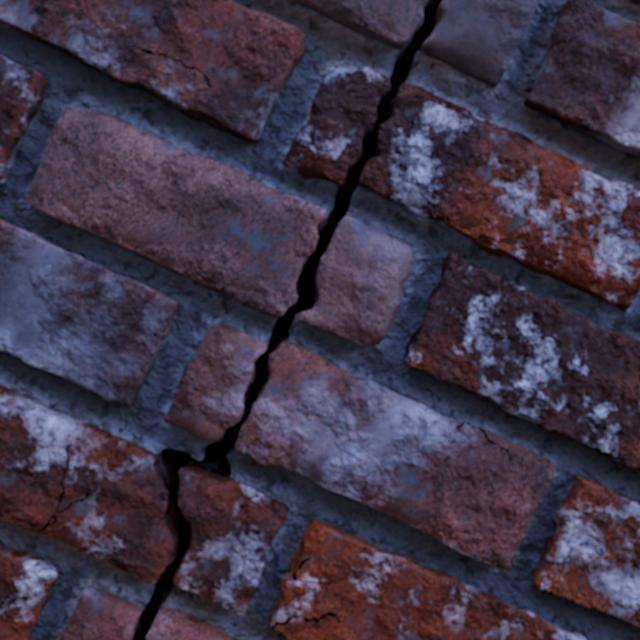broken_brick: (235, 340, 555, 573), (23, 107, 327, 318), (359, 83, 639, 310), (0, 385, 172, 583), (174, 468, 289, 615), (296, 216, 415, 346), (283, 67, 389, 184), (164, 324, 264, 441), (420, 0, 538, 86), (288, 0, 426, 49), (60, 586, 141, 639), (146, 607, 237, 639), (632, 0, 639, 4)
crack: (129, 0, 443, 639), (405, 252, 639, 468), (0, 0, 305, 141), (270, 519, 587, 639), (0, 218, 179, 405), (524, 0, 639, 157), (531, 475, 639, 627), (0, 54, 48, 184), (0, 540, 59, 639), (37, 442, 97, 532), (455, 420, 514, 465), (541, 263, 572, 278), (387, 511, 416, 525), (574, 279, 591, 287), (429, 43, 443, 50), (571, 281, 584, 287), (302, 472, 312, 477)
